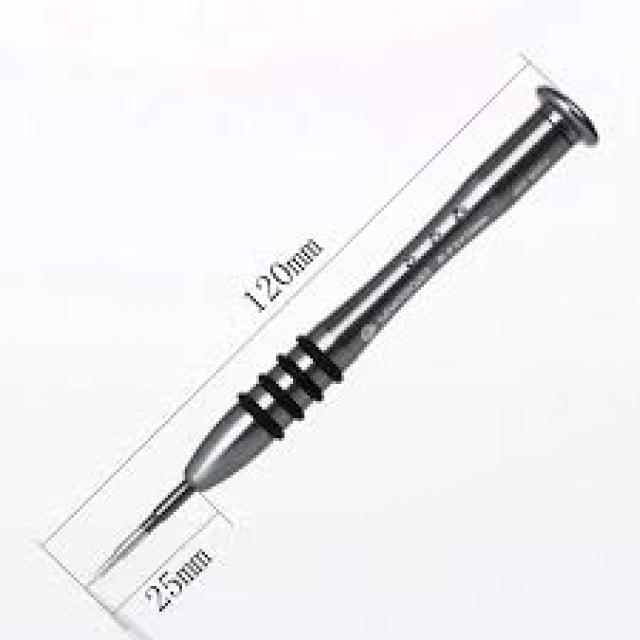Screwdriver: (76, 74, 595, 597)
